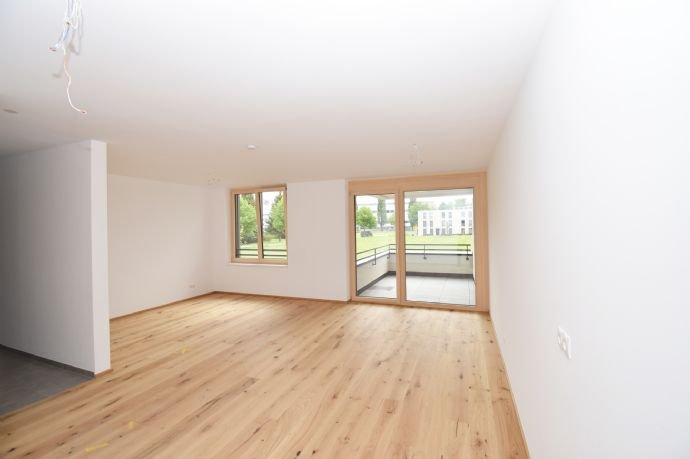door: (347, 172, 491, 313)
wall: (490, 1, 690, 459), (214, 171, 490, 315), (1, 139, 94, 380), (105, 172, 213, 321)
window: (227, 183, 290, 266)
